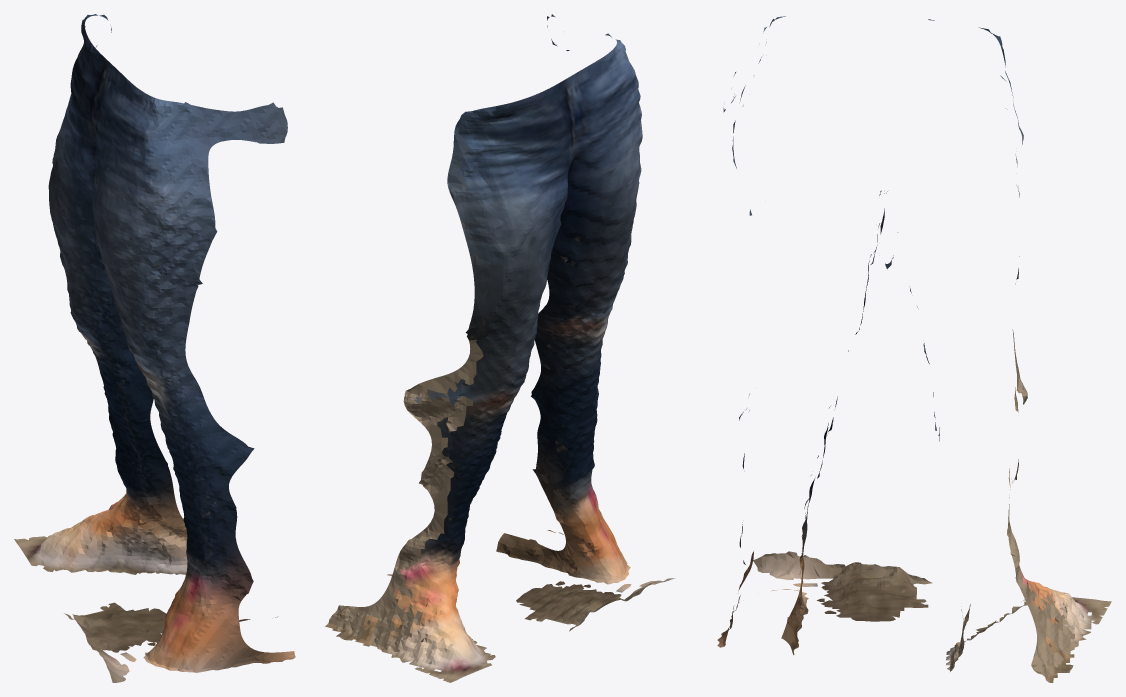
3 views of the same model, side by side, from view 1: azimuth 30°, elevation 25°; view 2: azimuth 150°, elevation 25°; view 3: azimuth 270°, elevation 25° (orthographic). The views are drawn at different scales.
Bounding box in the file's own units: 0.3861 × 0.8738 × 0.5407.
Materials: 1 (1 with a texture image).
